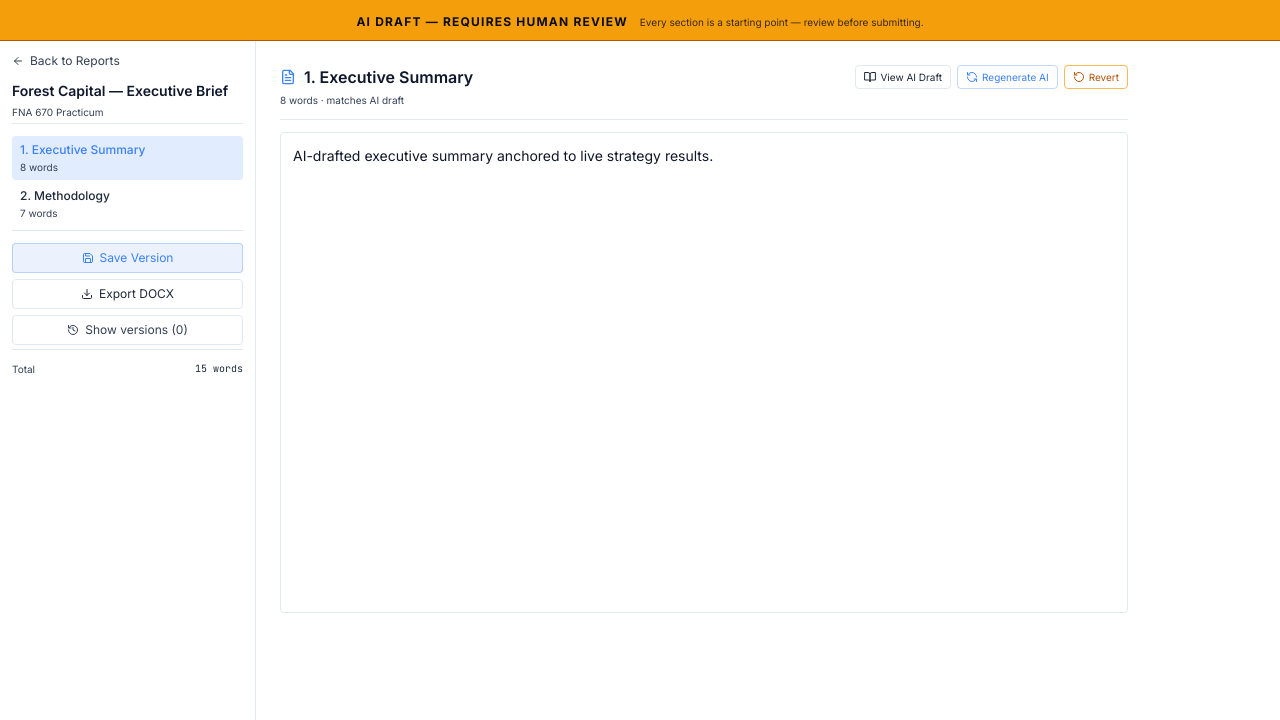
Test: SectionEditor — rendering › switches sections when a tab is clicked
Click the button with test id "section-tab-methodology".
click(128, 204)  # box left=12, top=182, right=243, bottom=226
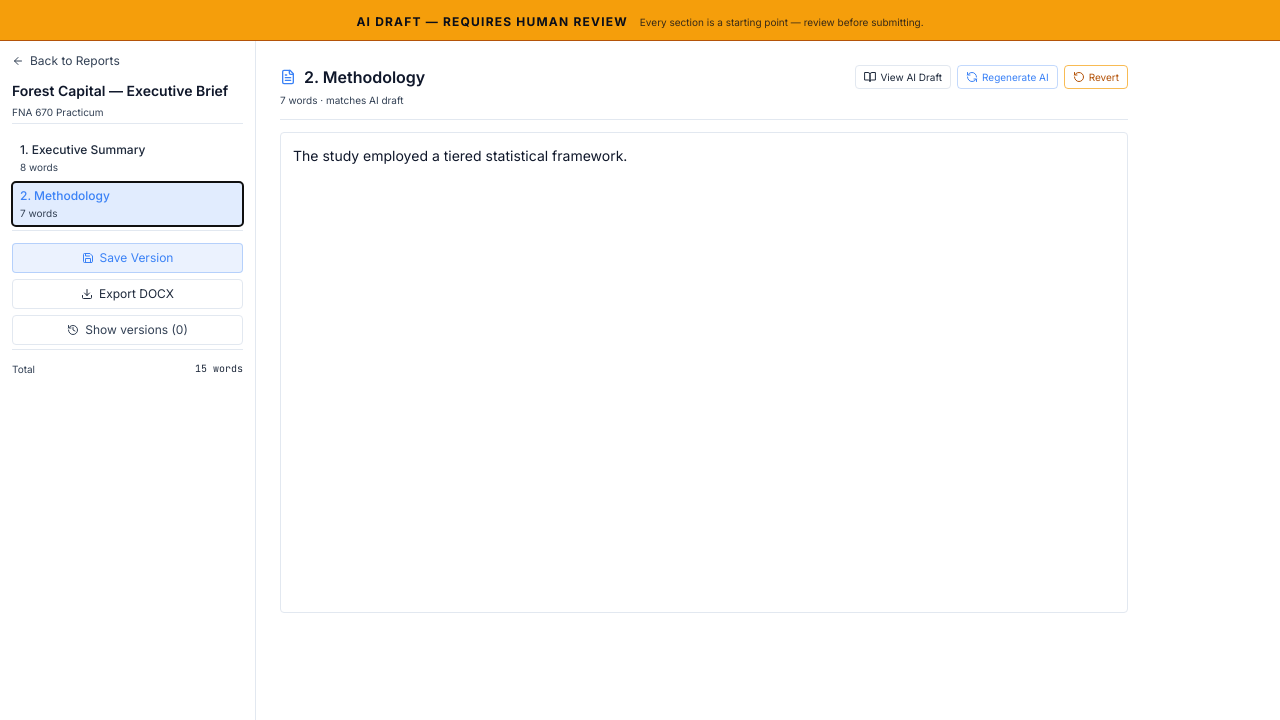
Expected: the element with test id "section-editor-methodology" is shown, left=280, top=65, right=1128, bottom=619
